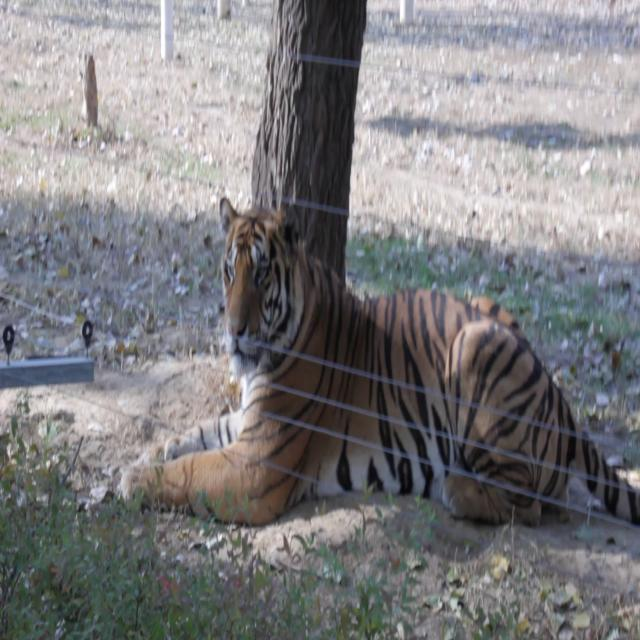Tiger: (115, 190, 640, 530)
